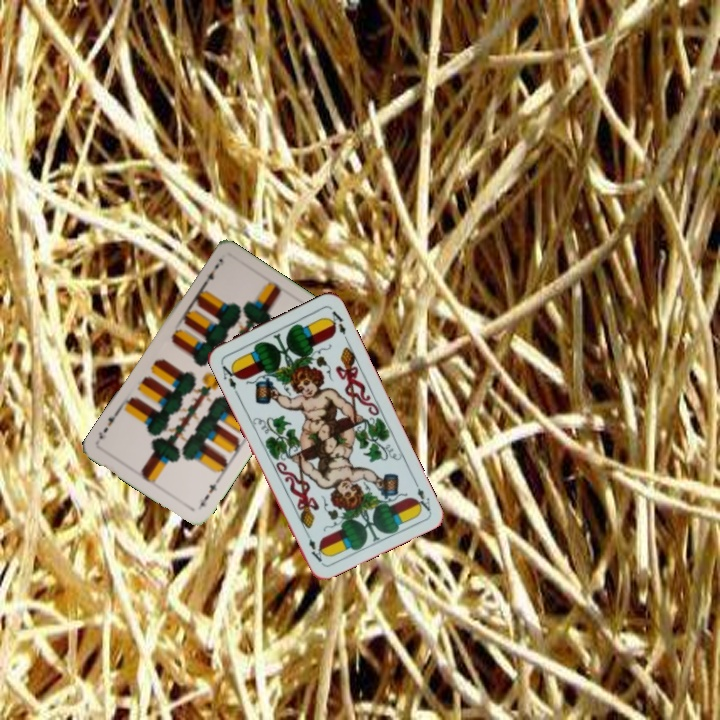E7: (198, 259, 222, 289), (196, 480, 220, 510)
EA: (409, 475, 433, 514), (217, 359, 241, 392)
